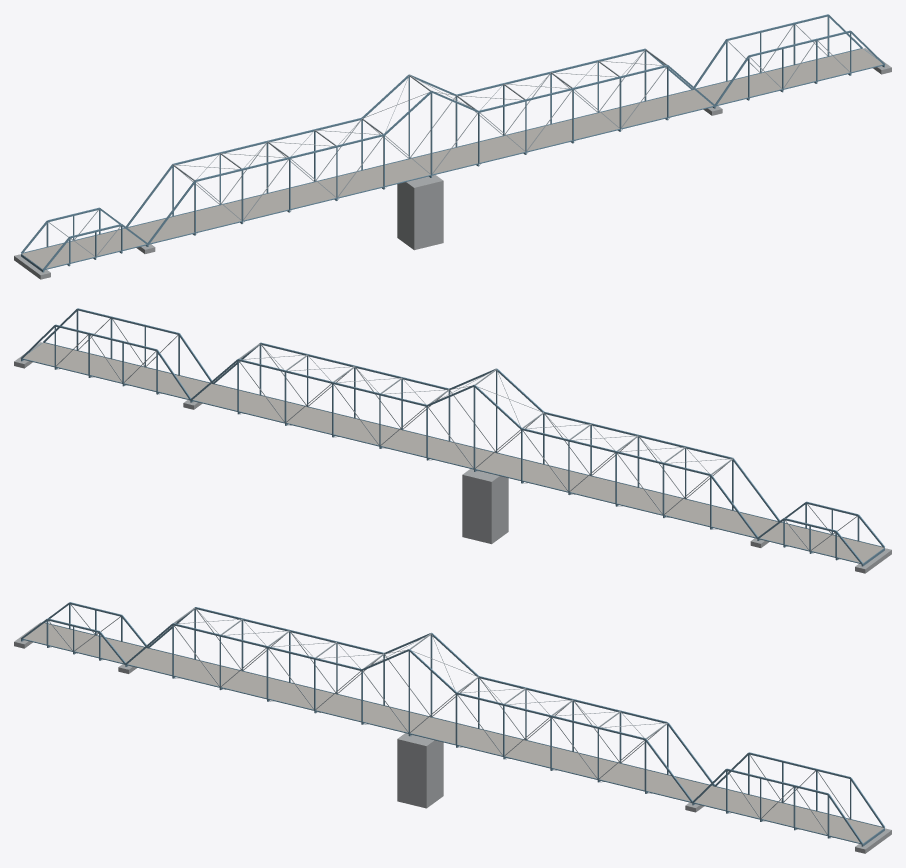
The model's file is bridge.glb.
3 renders of one model, top to bottom at view 1: azimuth 30°, elevation 25°; view 2: azimuth 150°, elevation 25°; view 3: azimuth 330°, elevation 25°, orthographic.
Parts seen in each view (by area): view 1: deck_001, deck_003, central_pier_001, deck_002; view 2: deck_001, deck_003, central_pier_001, deck_002; view 3: deck_001, deck_003, central_pier_001, deck_002.
Part boxes in pixels (box(x1,y1,x2,y2)): deck_001: box(128, 90, 712, 242); deck_003: box(693, 48, 882, 104); central_pier_001: box(397, 175, 443, 250); deck_002: box(22, 228, 145, 269); deck_001: box(193, 384, 777, 536); deck_003: box(23, 342, 212, 398); central_pier_001: box(462, 469, 508, 544); deck_002: box(760, 522, 883, 563); deck_001: box(128, 648, 714, 801); deck_003: box(694, 787, 883, 843); central_pier_001: box(397, 733, 443, 808); deck_002: box(23, 623, 146, 662).
Size of the model in its own units: 121 by 21.5 by 6.58.
